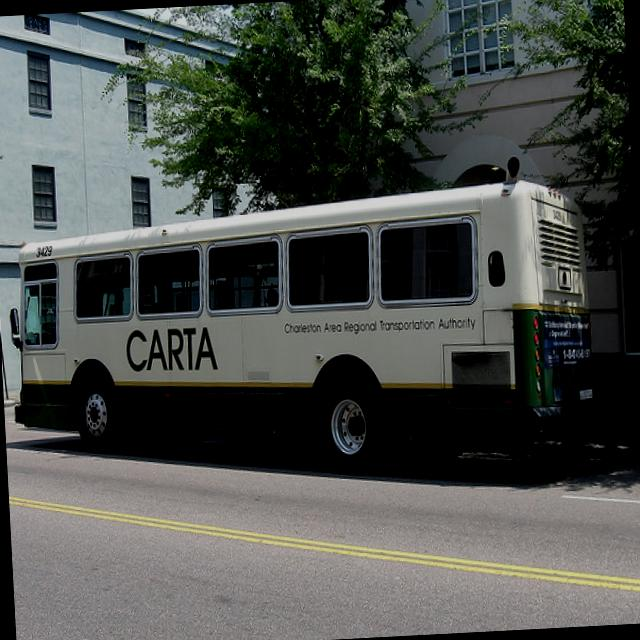Vehicle: (0, 150, 605, 488)
